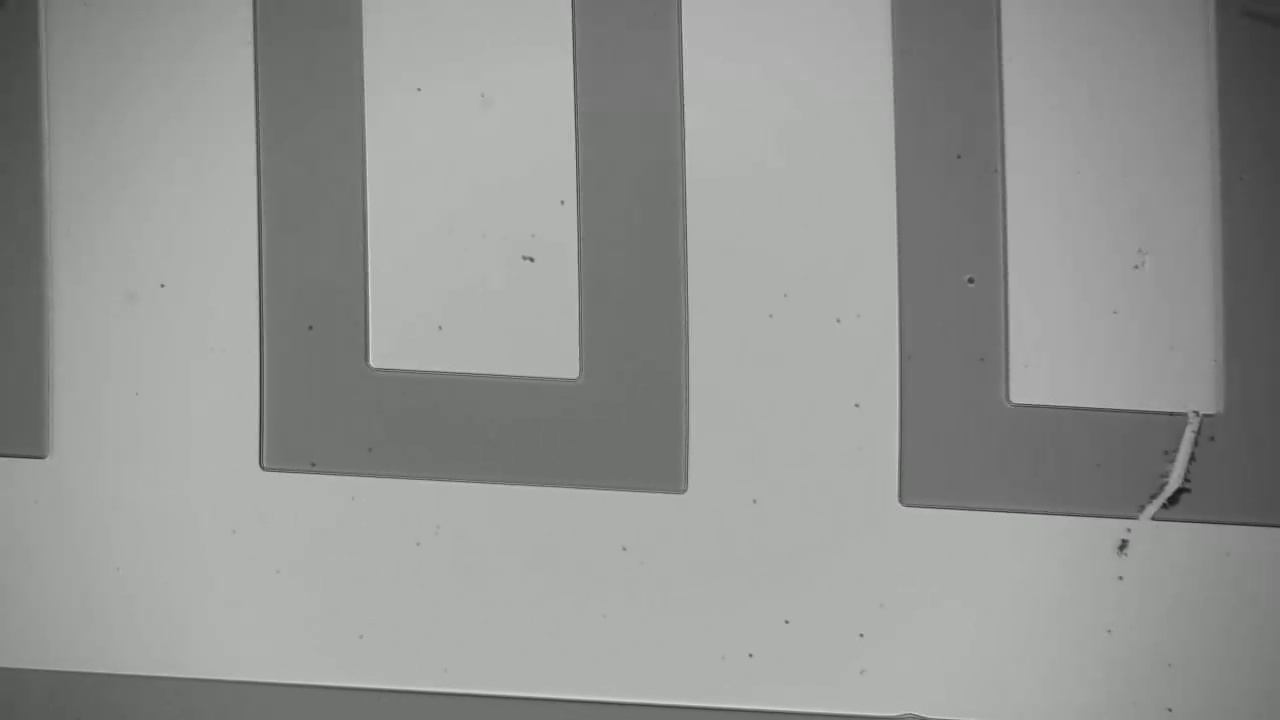Short_circuit: (1115, 392, 1215, 552)
